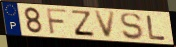8: (23, 6, 44, 36)
F: (45, 7, 68, 36)
L: (145, 14, 168, 41)
S: (120, 13, 145, 41)
V: (93, 10, 118, 39)
Z: (70, 9, 96, 38)
